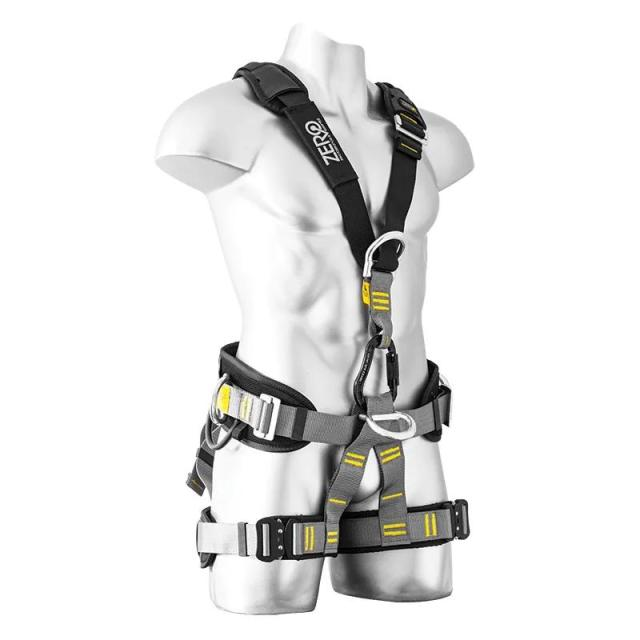Belt: (169, 64, 474, 568)
